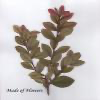Blueberry leaf: (51, 75, 79, 90), (19, 51, 35, 64), (18, 62, 36, 70), (27, 35, 36, 50), (12, 24, 23, 35), (23, 30, 31, 43)
